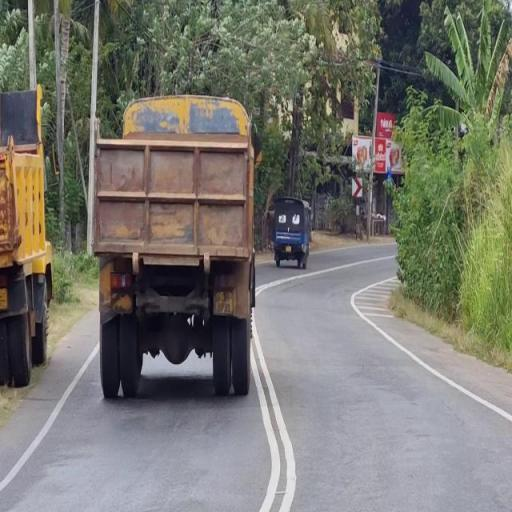double_white_line: (0, 349, 90, 490), (249, 312, 296, 512)
